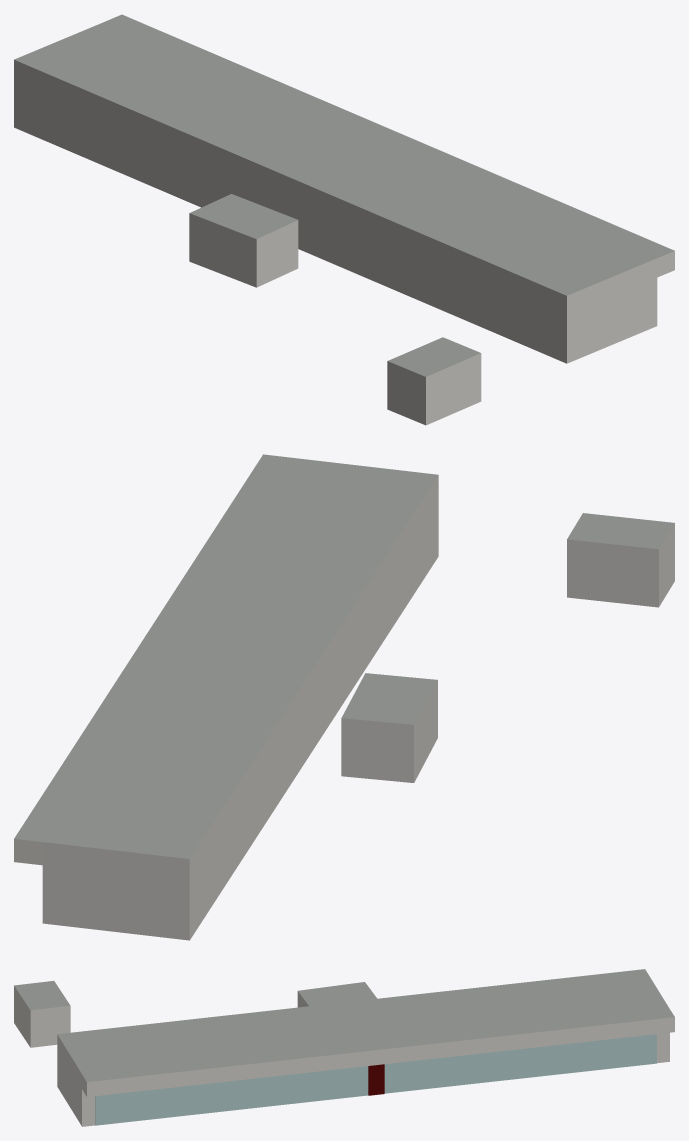
File: gridID_80.dae
3 views of the same model, one above another, from view 1: azimuth 30°, elevation 25°; view 2: azimuth 150°, elevation 25°; view 3: azimuth 270°, elevation 25° (orthographic). The views are drawn at different scales.
Parts seen in each view (by area): view 1: model_gridID_80_w382861040, model_gridID_80_w382861040_001, model_gridID_80_w382893197_002; view 2: model_gridID_80_w382861040, model_gridID_80_w382861040_001, model_gridID_80_w382893197_002; view 3: model_gridID_80_w382861040, model_gridID_80_w382893197_002, model_gridID_80_w382861040_001, model_gridID_80_w382893197.
Boxes of the visible parts, bbox=[...] form: model_gridID_80_w382861040: bbox=[14, 14, 674, 363]; model_gridID_80_w382861040_001: bbox=[189, 194, 298, 287]; model_gridID_80_w382893197_002: bbox=[387, 337, 481, 425]; model_gridID_80_w382861040: bbox=[14, 454, 438, 940]; model_gridID_80_w382861040_001: bbox=[341, 673, 437, 782]; model_gridID_80_w382893197_002: bbox=[567, 513, 674, 607]; model_gridID_80_w382861040: bbox=[57, 969, 674, 1126]; model_gridID_80_w382893197_002: bbox=[14, 981, 70, 1047]; model_gridID_80_w382861040_001: bbox=[297, 982, 376, 1007]; model_gridID_80_w382893197: bbox=[368, 1064, 384, 1095].
Bounding box in the file's own units: 16.65 × 39.94 × 3.5.
